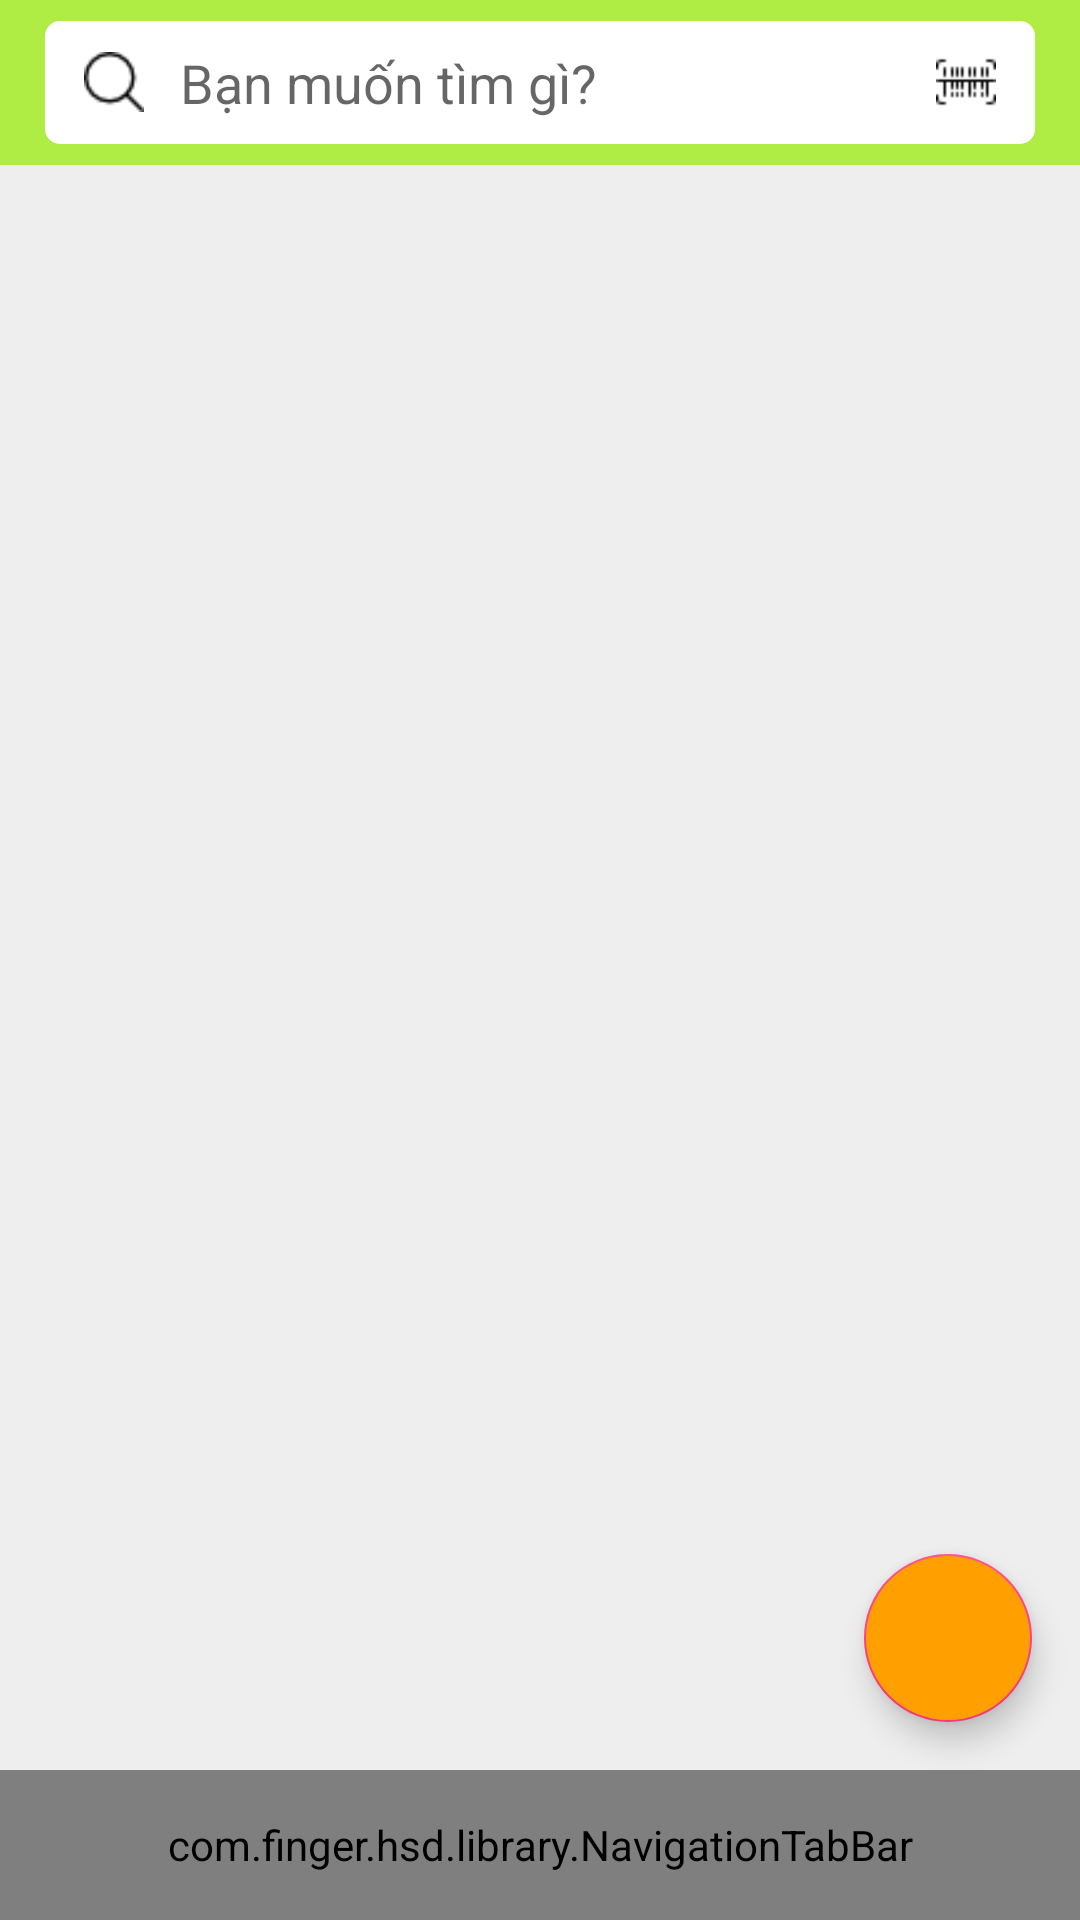

Icon click points for this 1080 x 1920 phone screenshot, format [x,y]:
scan barcode: [966,82]
search: [114,82]
